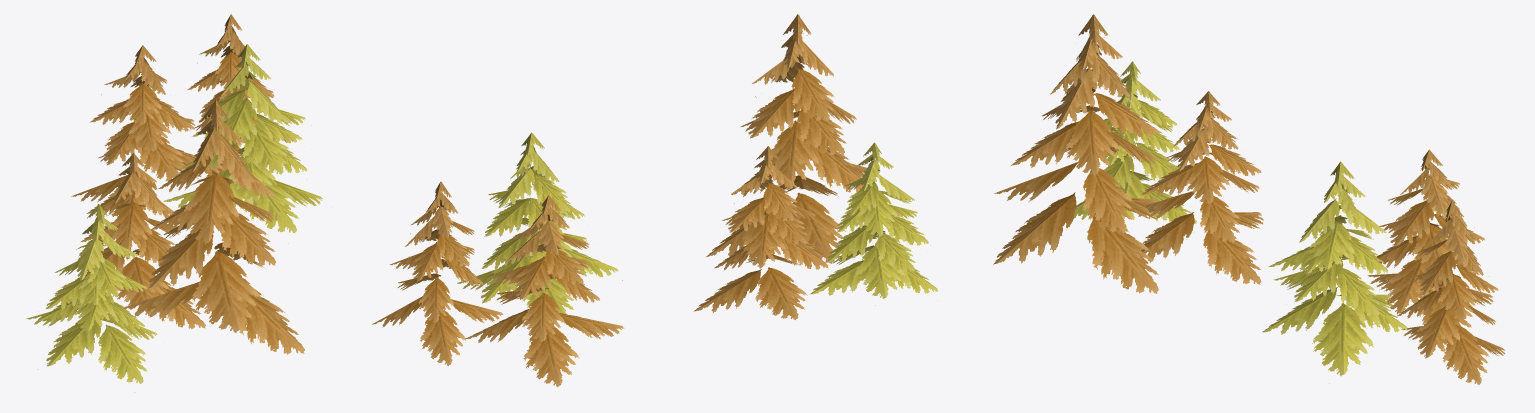
The model's file is area_07_27.fbx.
The picture shows the model from 3 angles, left to right: view 1: azimuth 30°, elevation 25°; view 2: azimuth 150°, elevation 25°; view 3: azimuth 270°, elevation 25°; orthographic projection. The views are drawn at different scales.
Parts seen in each view (by area): view 1: area_07_27; view 2: area_07_27; view 3: area_07_27.
Part boxes in pixels (x1,y1,x2,y2): area_07_27: (26,14,322,392); area_07_27: (372,14,937,386); area_07_27: (993,14,1504,384).
Bounding box in the file's own units: 14.65 × 8.72 × 16.11.
